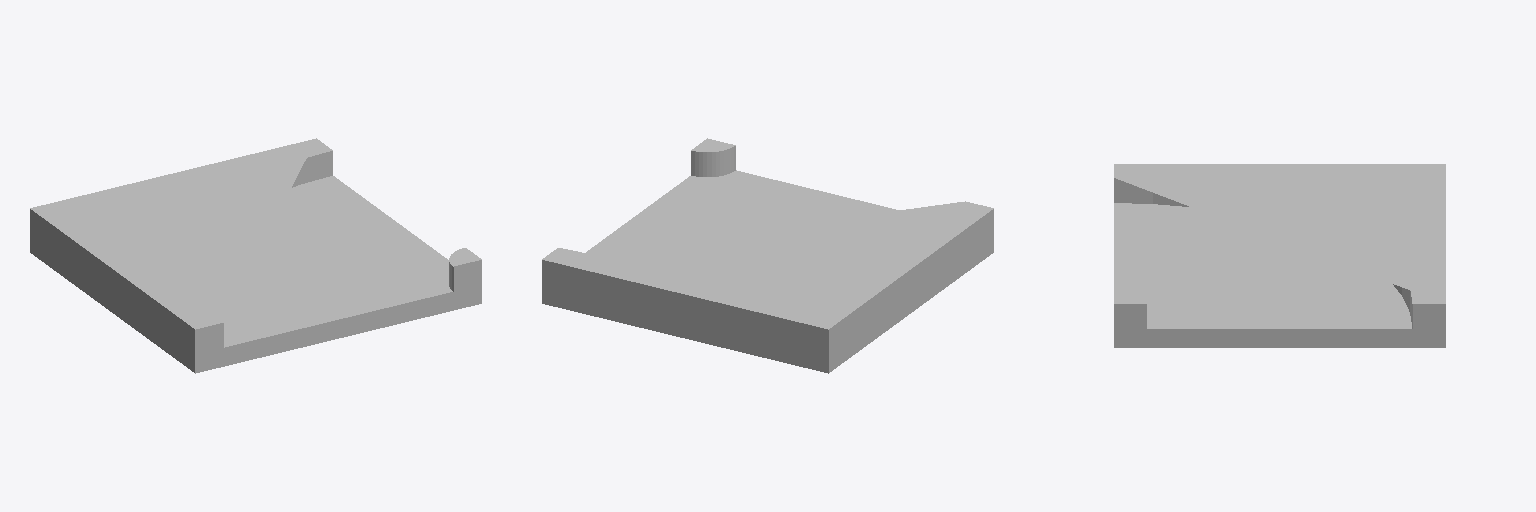
File: Round_corner_2_01.obj
3 renders of one model, left to right at view 1: azimuth 30°, elevation 25°; view 2: azimuth 150°, elevation 25°; view 3: azimuth 270°, elevation 25°, orthographic.
Parts seen in each view (by area): view 1: Mesh1 Round_corner_2 Model; view 2: Mesh1 Round_corner_2 Model; view 3: Mesh1 Round_corner_2 Model.
Part boxes in pixels (x1,y1,x2,y2): Mesh1 Round_corner_2 Model: (30,138,481,373); Mesh1 Round_corner_2 Model: (542,138,993,373); Mesh1 Round_corner_2 Model: (1114,164,1445,347).
Size of the model in its own units: 3 by 0.44 by 3.